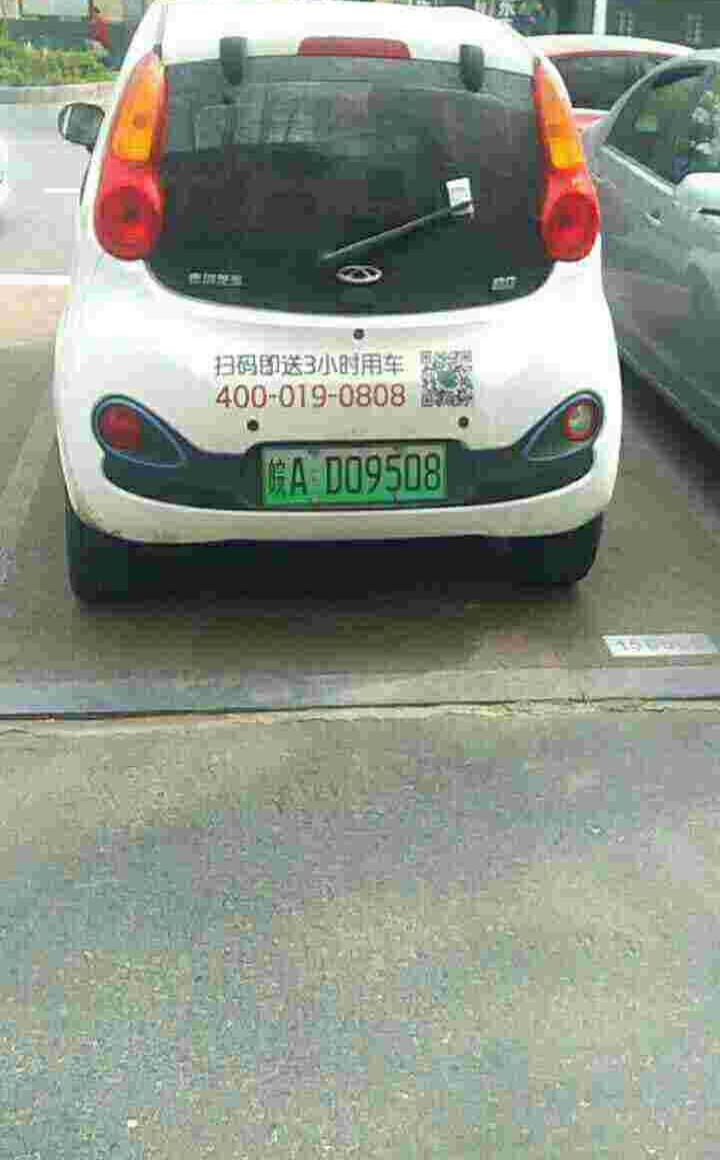car_green: (258, 447, 449, 505)
